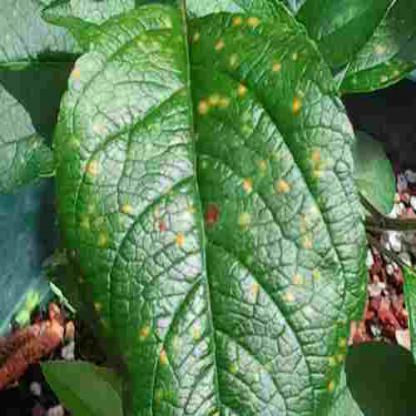apple rust leaf: (52, 8, 379, 415)
